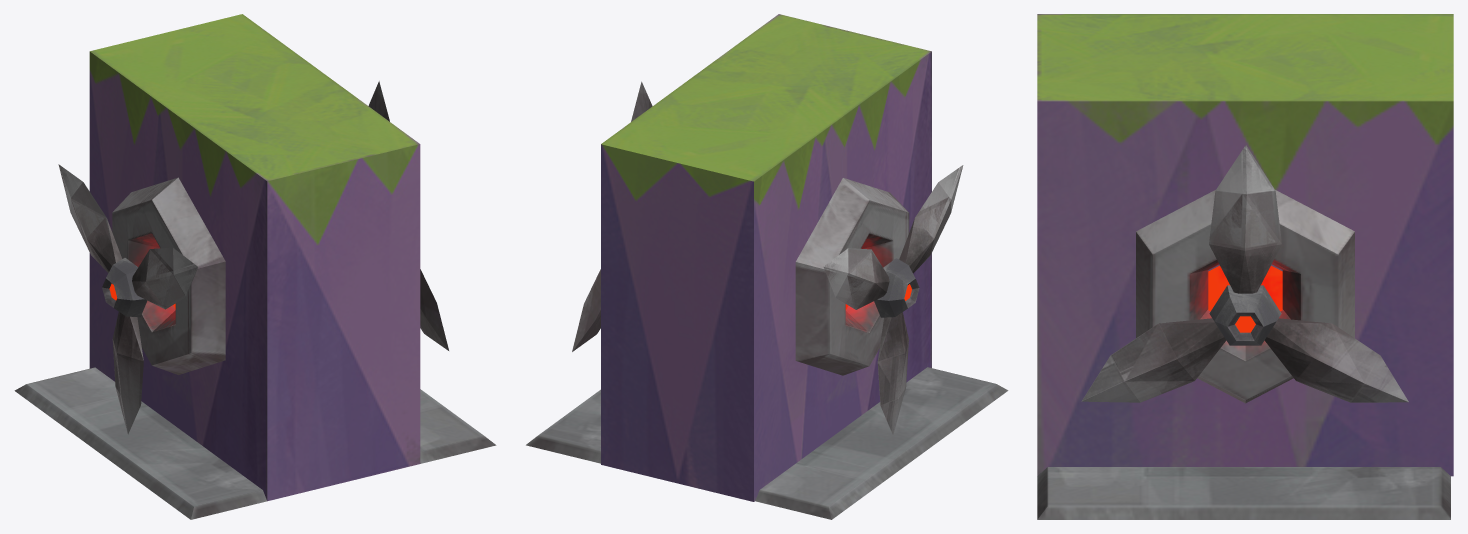
File: wall_fan.fbx
3 views of the same model, side by side, from view 1: azimuth 30°, elevation 25°; view 2: azimuth 150°, elevation 25°; view 3: azimuth 270°, elevation 25° (orthographic). The views are drawn at different scales.
Parts seen in each view (by area): view 1: wall_fan_wall, wall_fan_mount2, prop_blades3 (×2), prop_blades1, prop_blades2, prop_center; view 2: wall_fan_wall, wall_fan_mount2, prop_blades2 (×2), prop_blades1, prop_blades3, prop_center; view 3: wall_fan_wall, wall_fan_mount1, prop_blades1, prop_blades2, prop_blades3, prop_center, wallprop_mount_red2.
Part boxes in pixels (left/top/right/bottom): wall_fan_wall: left=14, top=14, right=496, bottom=519; wall_fan_mount2: left=112, top=177, right=225, bottom=374; prop_blades3 (×2): left=132, top=247, right=448, bottom=350; prop_blades1: left=112, top=312, right=143, bottom=434; prop_blades2: left=58, top=164, right=122, bottom=272; prop_center: left=102, top=258, right=147, bottom=317; wall_fan_wall: left=526, top=14, right=1008, bottom=519; wall_fan_mount2: left=795, top=178, right=909, bottom=375; prop_blades2 (×2): left=572, top=248, right=889, bottom=351; prop_blades1: left=877, top=312, right=908, bottom=435; prop_blades3: left=899, top=165, right=963, bottom=273; prop_center: left=874, top=258, right=919, bottom=317; wall_fan_wall: left=1037, top=14, right=1453, bottom=519; wall_fan_mount1: left=1136, top=190, right=1354, bottom=403; prop_blades1: left=1209, top=145, right=1281, bottom=293; prop_blades2: left=1264, top=318, right=1408, bottom=402; prop_blades3: left=1081, top=318, right=1226, bottom=402; prop_center: left=1209, top=285, right=1281, bottom=345; wallprop_mount_red2: left=1208, top=265, right=1282, bottom=311.
Bounding box in the file's own units: 0.02 × 0.02 × 0.0201.
